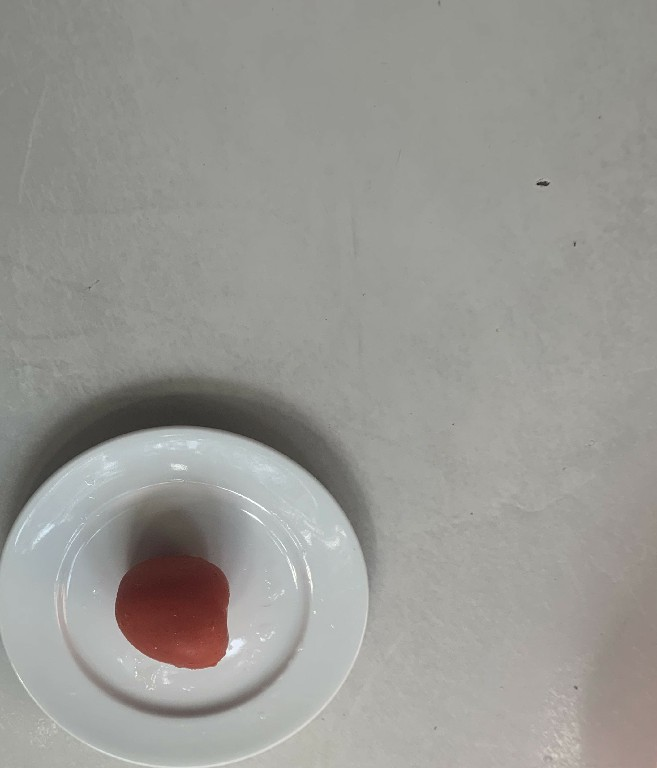OK: (111, 543, 241, 682)
